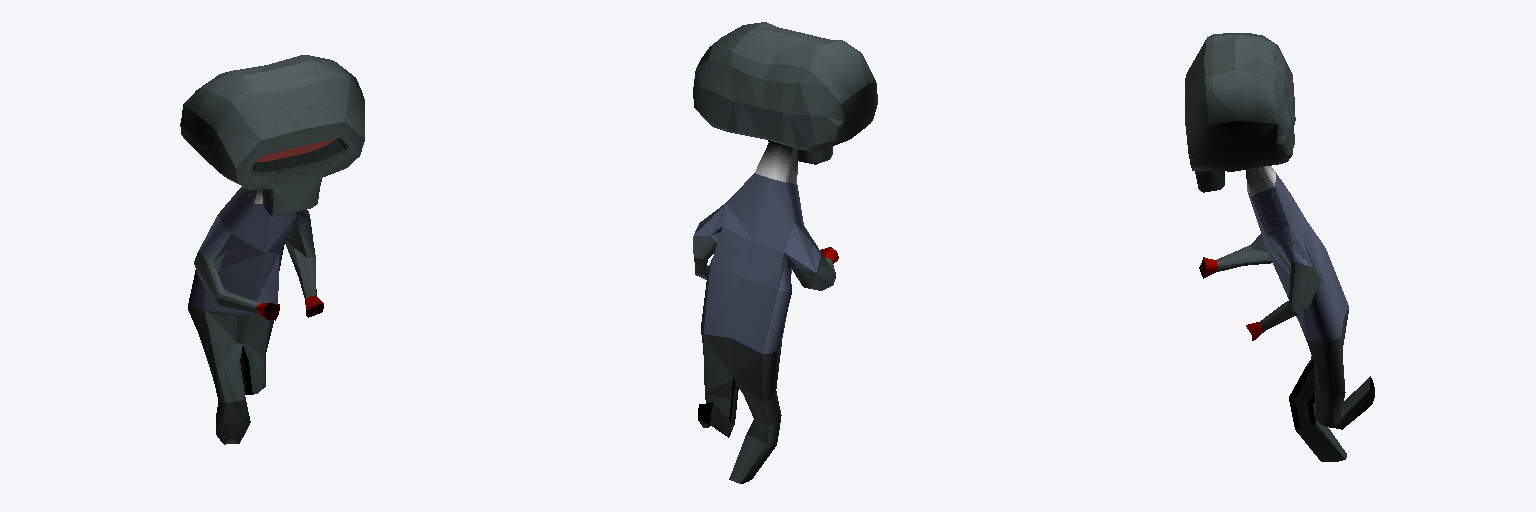
3 renders of one model, left to right at view 1: azimuth 30°, elevation 25°; view 2: azimuth 150°, elevation 25°; view 3: azimuth 270°, elevation 25°, orthographic.
Parts seen in each view (by area): view 1: Plane; view 2: Plane; view 3: Plane.
Boxes of the visible parts, x1,y1,x2,y2 form: Plane: [180, 55, 364, 444]; Plane: [693, 22, 877, 483]; Plane: [1185, 33, 1374, 461].
Size of the model in its own units: 3.44 by 8.44 by 3.58.
6 materials, 1 textured.